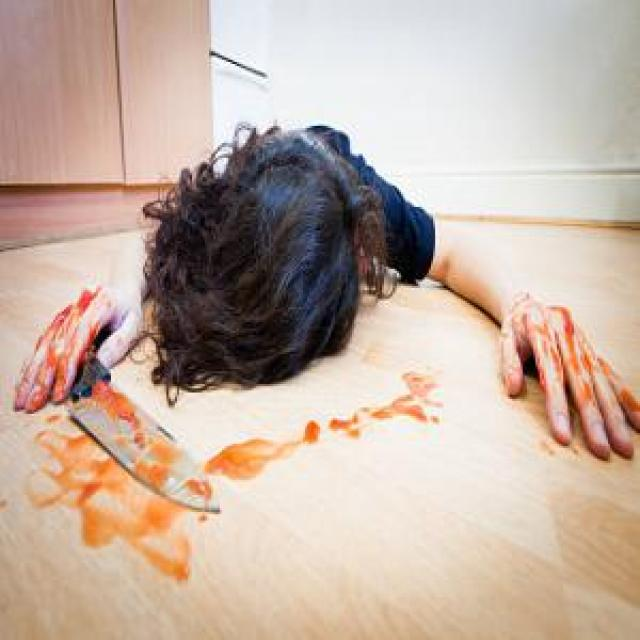knife: (62, 352, 225, 516)
